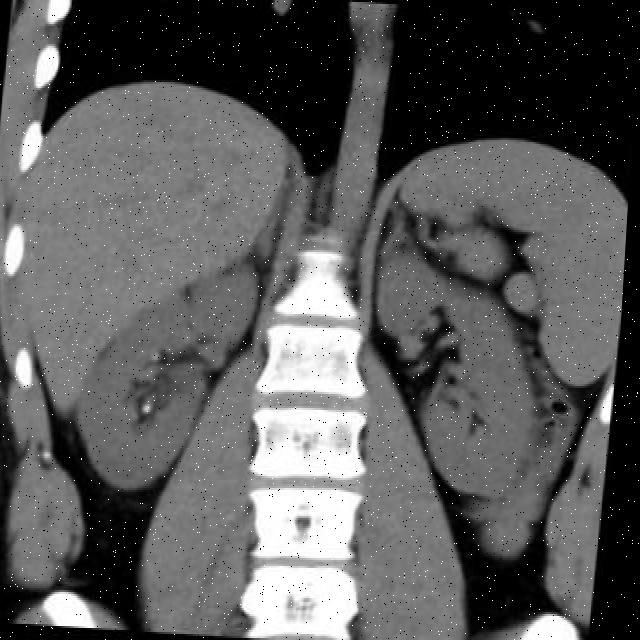Tas_Var: (147, 402, 160, 418), (157, 353, 165, 361)
